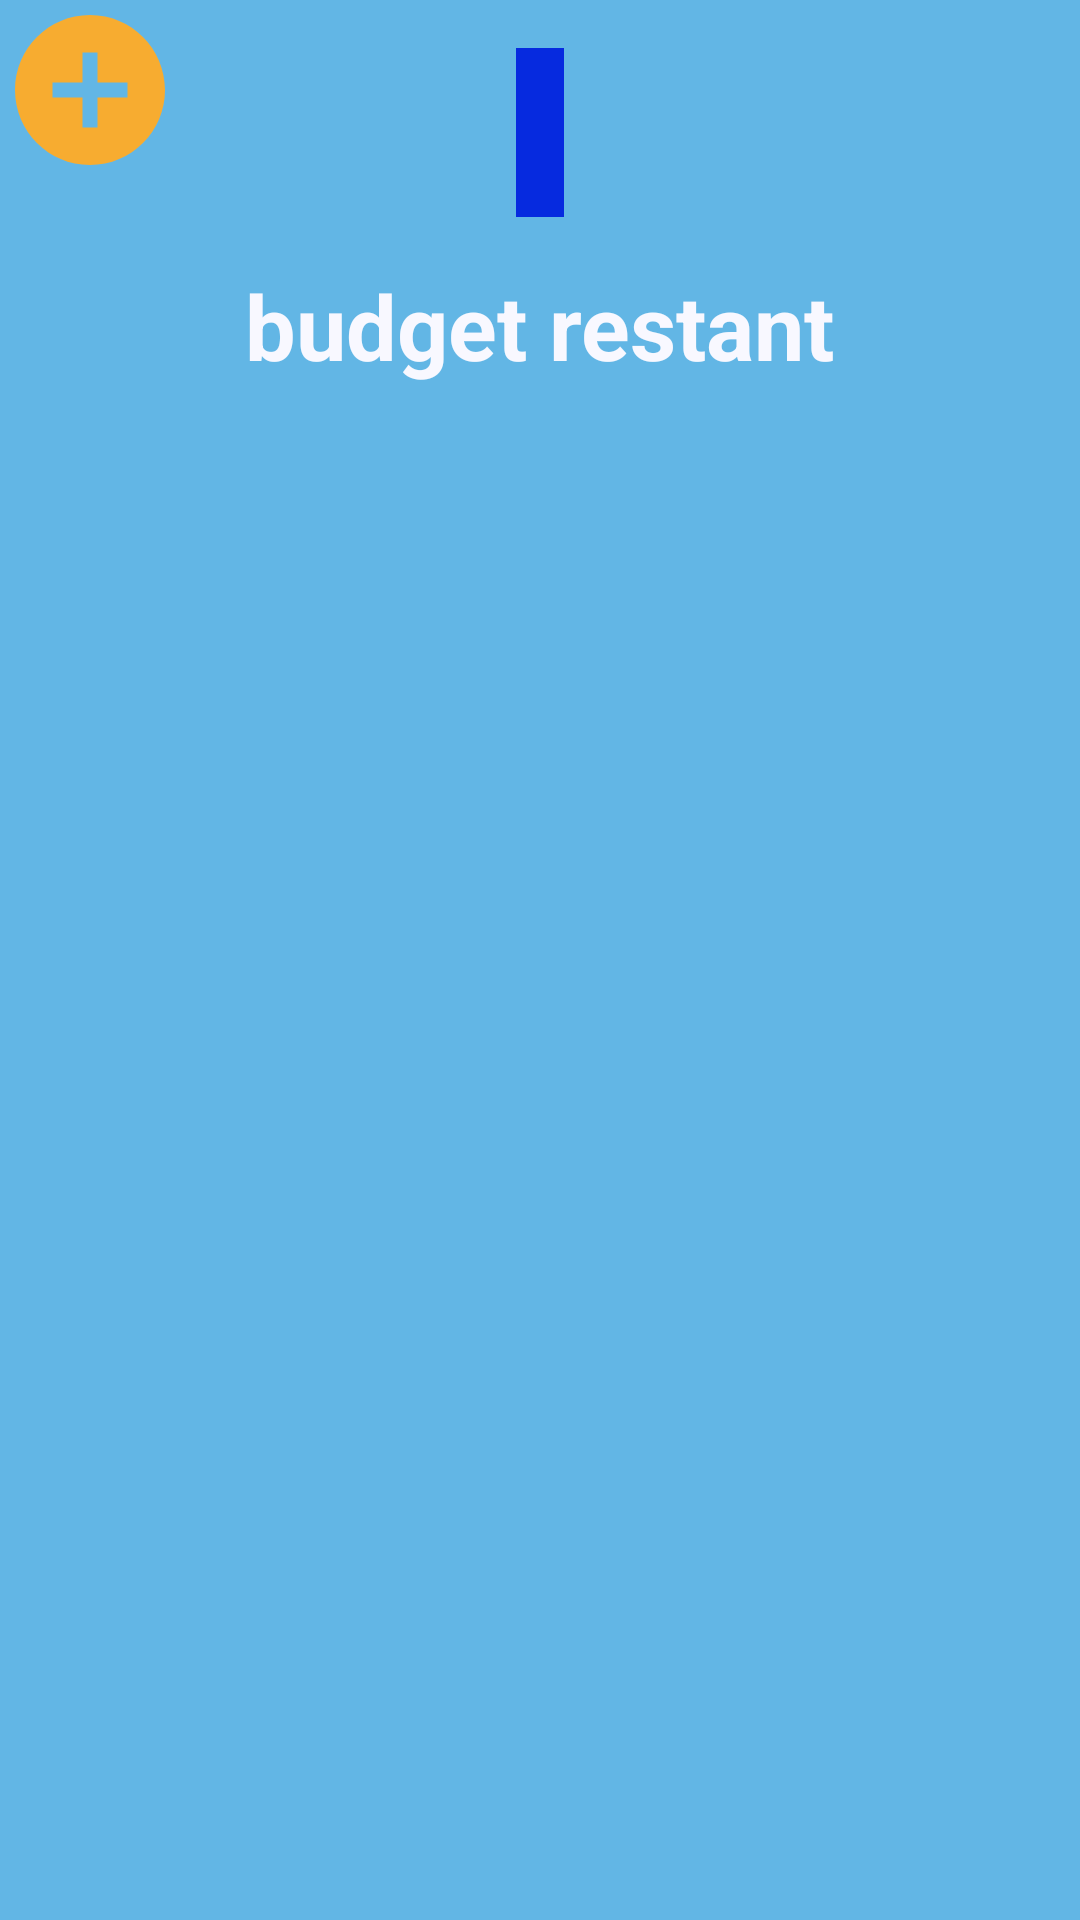

Icons on this 1080px×1920px Android screen, each with the point to tap as [x,y]:
add circle: [90,90]
